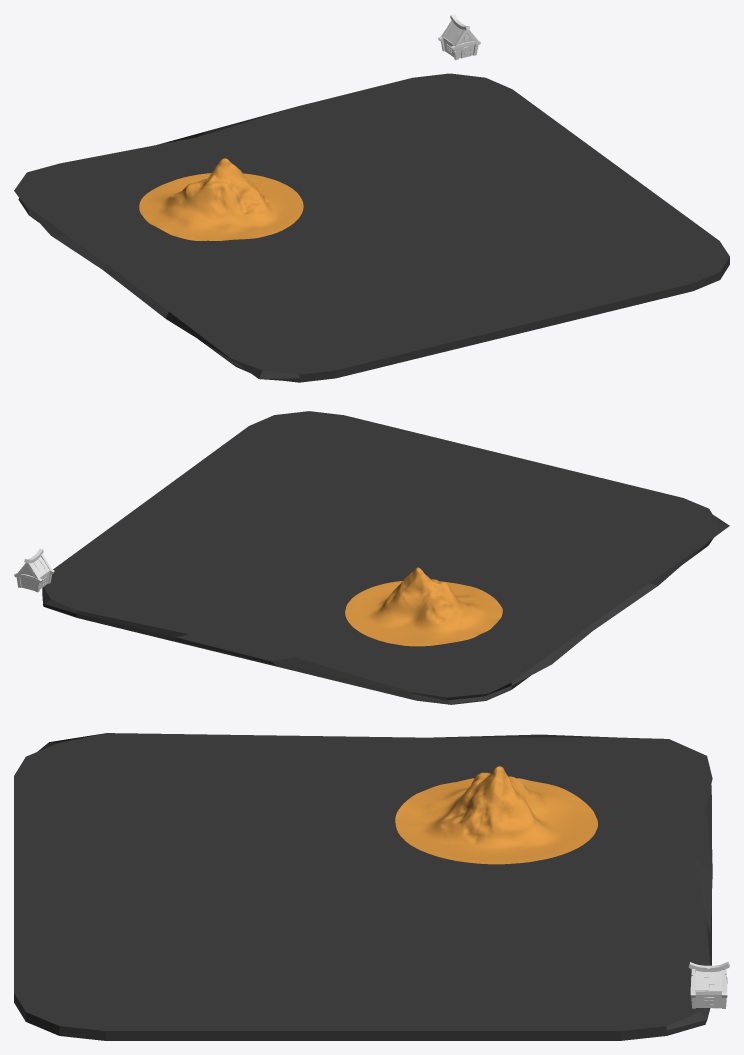
File: ground.fbx
The picture shows the model from 3 angles, top to bottom: view 1: azimuth 30°, elevation 25°; view 2: azimuth 150°, elevation 25°; view 3: azimuth 270°, elevation 25°; orthographic projection. The views are drawn at different scales.
Visible parts, largest first — view 1: Plane, mountainpeak.obj, Cubo.001; view 2: Plane, mountainpeak.obj, Cubo.001; view 3: Plane, mountainpeak.obj, Cubo.001.
Part boxes in pixels (bbox=[...]): Plane: bbox=[14, 73, 729, 382]; mountainpeak.obj: bbox=[139, 158, 303, 240]; Cubo.001: bbox=[438, 14, 480, 59]; Plane: bbox=[42, 411, 729, 704]; mountainpeak.obj: bbox=[345, 567, 502, 646]; Cubo.001: bbox=[14, 549, 54, 592]; Plane: bbox=[14, 733, 712, 1040]; mountainpeak.obj: bbox=[395, 766, 597, 864]; Cubo.001: bbox=[688, 962, 729, 1008].
Size of the model in its own units: 39070 by 4281 by 39470.
